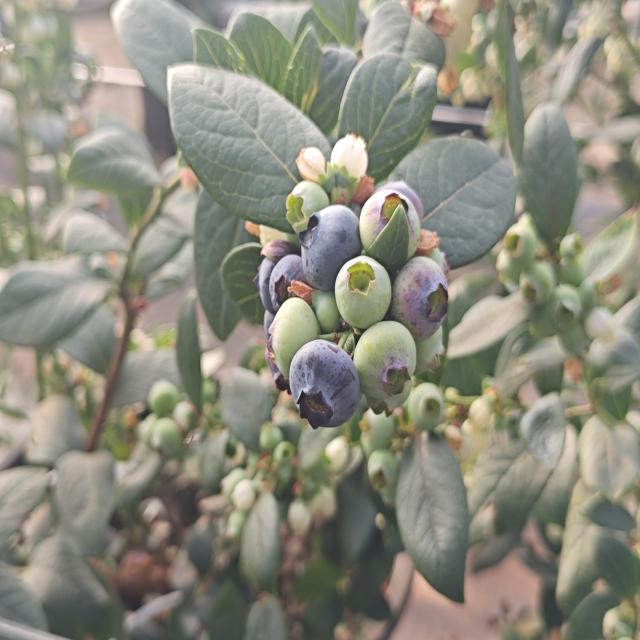ripe: (298, 201, 374, 293), (290, 332, 358, 423), (267, 252, 308, 312), (260, 328, 292, 393), (252, 253, 284, 316)
